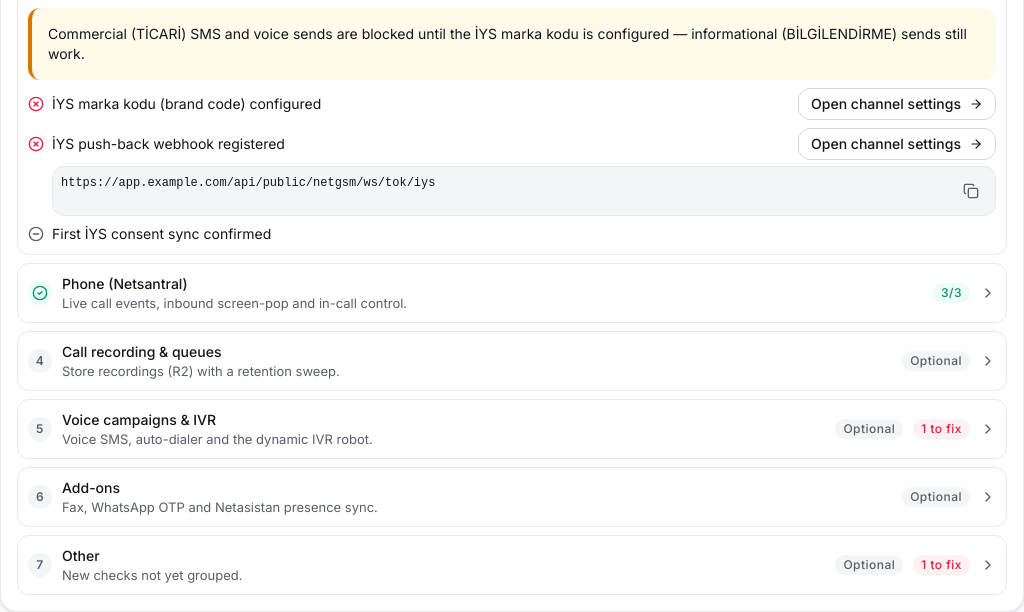
Test: NetgsmOnboardingCard — guided setup › never silently drops an unrecognized backend row — it lands in the trailing catch-all group
This screenshot has width=1024, height=612.
(page scrolled)
Expected: the text "İYS marka kodu (brand code) configured" is shown, x1=52 y1=95 x2=321 y2=112
Click the button "7 Other New checks not yet grouped. Optional 1 to fix" at coordinates (81, 556), box x1=18 y1=536 x2=1006 y2=594
(page scrolled)
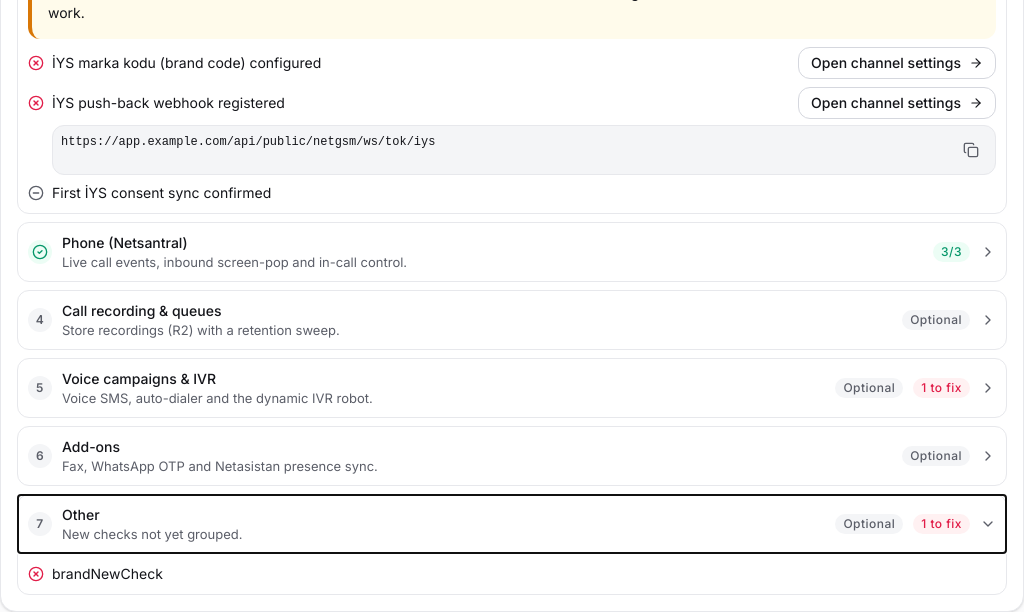
Result: the text "brandNewCheck" is shown at x1=52 y1=565 x2=163 y2=582
